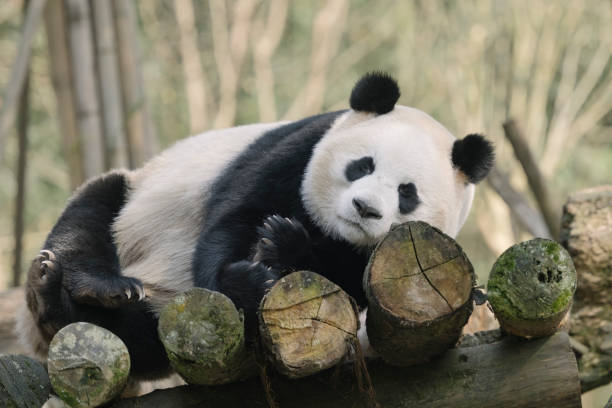panda: (292, 54, 508, 268)
